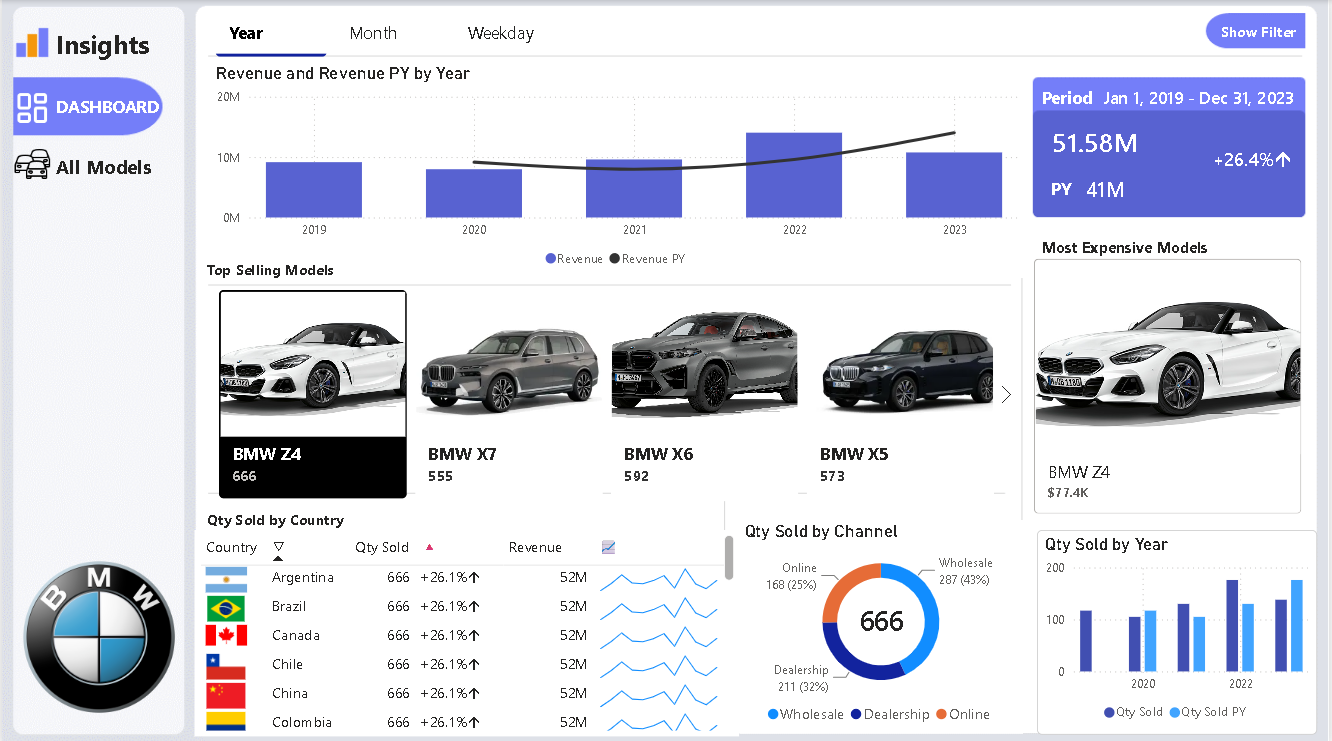

What the dashboard file says about the page in this screenshot:
{"tool":"powerbi","page":{"name":"DASHBOARD","canvas":[1280,720],"ordinal":0},"visuals":[{"type":"lineStackedColumnComboChart","fields":{"Category":["Calender.Year"],"Y":["All Measures.Revenue"],"Y2":["All Measures.Revenue PY"]},"box":[201.1,60,784.4,207.8],"z":0},{"type":"advancedSlicerVisual","fields":{"Values":["PeriodSlicer 2.PeriodSlicer"]},"box":[201.2,0,348.8,60],"z":1000},{"type":"cardVisual","fields":{"Data":["All Measures.Revenue"]},"box":[985,105,162.5,60],"z":2000},{"type":"cardVisual","fields":{"Data":["All Measures.Revenue PY"]},"box":[1017.5,151.2,131.2,60],"z":3000},{"type":"textbox","box":[1007.5,165,80,46.2],"z":4000},{"type":"cardVisual","fields":{"Data":["All Measures.Revenue Variance % Arrow"]},"box":[1138.8,123.8,141.2,55],"z":5000},{"type":"cardVisual","fields":{"Data":["All Measures.selected Period"]},"box":[1033.8,60,246.2,63.8],"z":6000},{"type":"textbox","box":[998.8,77.5,58.8,46.2],"z":7000},{"type":"advancedSlicerVisual","fields":{"Values":["dimModel1.Model"]},"box":[185,275,800,211.7],"z":8000},{"type":"textbox","box":[185,246.7,176.7,58.3],"z":9000},{"type":"advancedSlicerVisual","fields":{"Values":["dimModel1.Model"]},"box":[971.7,245,308.3,256.7],"z":10000},{"type":"textbox","box":[998.3,223.3,183.3,45],"z":11000},{"type":"clusteredColumnChart","title":"Qty Sold  by Year","fields":{"Y":["All Measures.Qty Sold","All Measures.Qty Sold PY"],"Category":["Calender.Year"]},"box":[998.8,511.2,270,197.5],"z":12000},{"type":"donutChart","fields":{"Y":["All Measures.Qty Sold"],"Category":["dimChannel1.Channel"]},"box":[711.7,501.7,273.3,206.7],"z":13000},{"type":"cardVisual","fields":{"Data":["All Measures.Qty Sold"]},"box":[798.3,553.3,115,86.7],"z":14000},{"type":"tableEx","fields":{"Values":["dimCountry1.Flag","dimCountry1.Country","All Measures.Qty Sold","All Measures.Qty Sold Variance % Arrow","All Measures.Revenue","SparklineData(All Measures.Revenue_[Calender.Monthnum])"]},"box":[185.6,511.1,525.6,198.9],"z":15000},{"type":"textbox","box":[193.3,487.8,161.1,31.1],"z":16000},{"type":"textbox","box":[46.7,50,121.1,101.1],"z":17000},{"type":"image","box":[12.2,52.2,34.4,105.6],"z":18000},{"type":"image","box":[12.2,114.4,34.4,87.8],"z":19000},{"type":"textbox","box":[46.7,143.3,121.1,53.3],"z":20000},{"type":"actionButton","box":[0,135.6,175.6,52.2],"z":21000},{"type":"actionButton","box":[1166.7,10,92.2,40],"z":23000},{"type":"image","box":[21.1,520,146.7,190],"z":24000},{"type":"image","box":[12.2,10,34.4,60],"z":25000},{"type":"textbox","box":[46.7,21.1,138.9,56.7],"z":26000}]}

Visuals, with their boxes in screenshot pixels (x1, y1, x2, y2), scaled from the page's 1280x720 canvas onto the 1332x741 screenshot:
lineStackedColumnComboChart - Calender.Year x All Measures.Revenue: locate(209, 62, 1026, 276)
advancedSlicerVisual - PeriodSlicer 2.PeriodSlicer: locate(209, 0, 572, 62)
cardVisual - All Measures.Revenue: locate(1025, 108, 1194, 170)
cardVisual - All Measures.Revenue PY: locate(1059, 156, 1195, 217)
textbox: locate(1048, 170, 1132, 217)
cardVisual - All Measures.Revenue Variance % Arrow: locate(1185, 127, 1331, 184)
cardVisual - All Measures.selected Period: locate(1076, 62, 1331, 127)
textbox: locate(1039, 80, 1101, 127)
advancedSlicerVisual - dimModel1.Model: locate(193, 283, 1025, 501)
textbox: locate(193, 254, 376, 314)
advancedSlicerVisual - dimModel1.Model: locate(1011, 252, 1331, 516)
textbox: locate(1039, 230, 1230, 276)
"Qty Sold  by Year" clusteredColumnChart: locate(1039, 526, 1320, 729)
donutChart - All Measures.Qty Sold x dimChannel1.Channel: locate(741, 516, 1025, 729)
cardVisual - All Measures.Qty Sold: locate(831, 569, 950, 659)
tableEx - dimCountry1.Flag x dimCountry1.Country: locate(193, 526, 740, 731)
textbox: locate(201, 502, 369, 534)
textbox: locate(49, 51, 175, 156)
image: locate(13, 54, 48, 162)
image: locate(13, 118, 48, 208)
textbox: locate(49, 147, 175, 202)
actionButton: locate(0, 140, 183, 193)
actionButton: locate(1214, 10, 1310, 51)
image: locate(22, 535, 175, 731)
image: locate(13, 10, 48, 72)
textbox: locate(49, 22, 193, 80)
